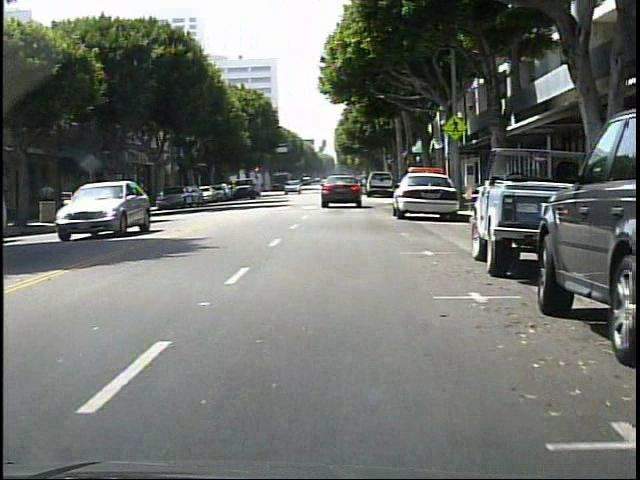person: (39, 179, 59, 224)
